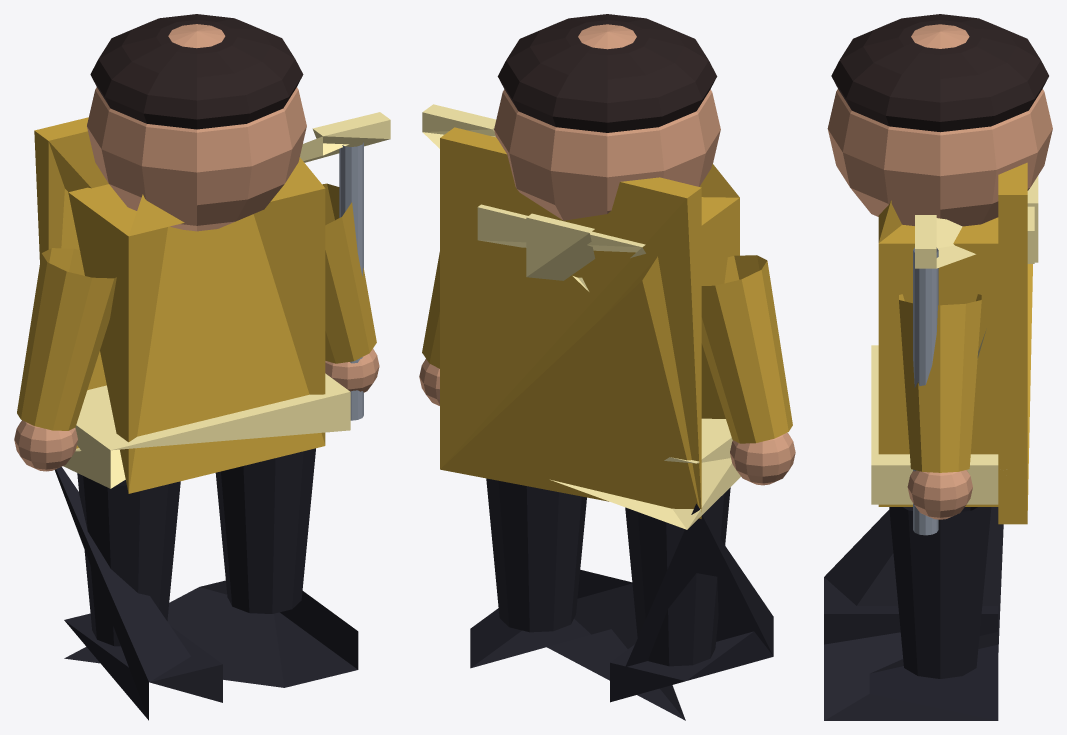
The model's file is Priest_Female.obj.
The picture shows the model from 3 angles, left to right: view 1: azimuth 30°, elevation 25°; view 2: azimuth 150°, elevation 25°; view 3: azimuth 270°, elevation 25°; orthographic projection. The views are drawn at different scales.
Parts seen in each view (by area): view 1: Priest_Female; view 2: Priest_Female; view 3: Priest_Female.
Boxes of the visible parts, box(x1,y1,x2,y2) form: Priest_Female: box(14, 14, 390, 720); Priest_Female: box(419, 14, 795, 720); Priest_Female: box(824, 14, 1052, 720).
Size of the model in its own units: 1.17 by 1.93 by 0.63.
